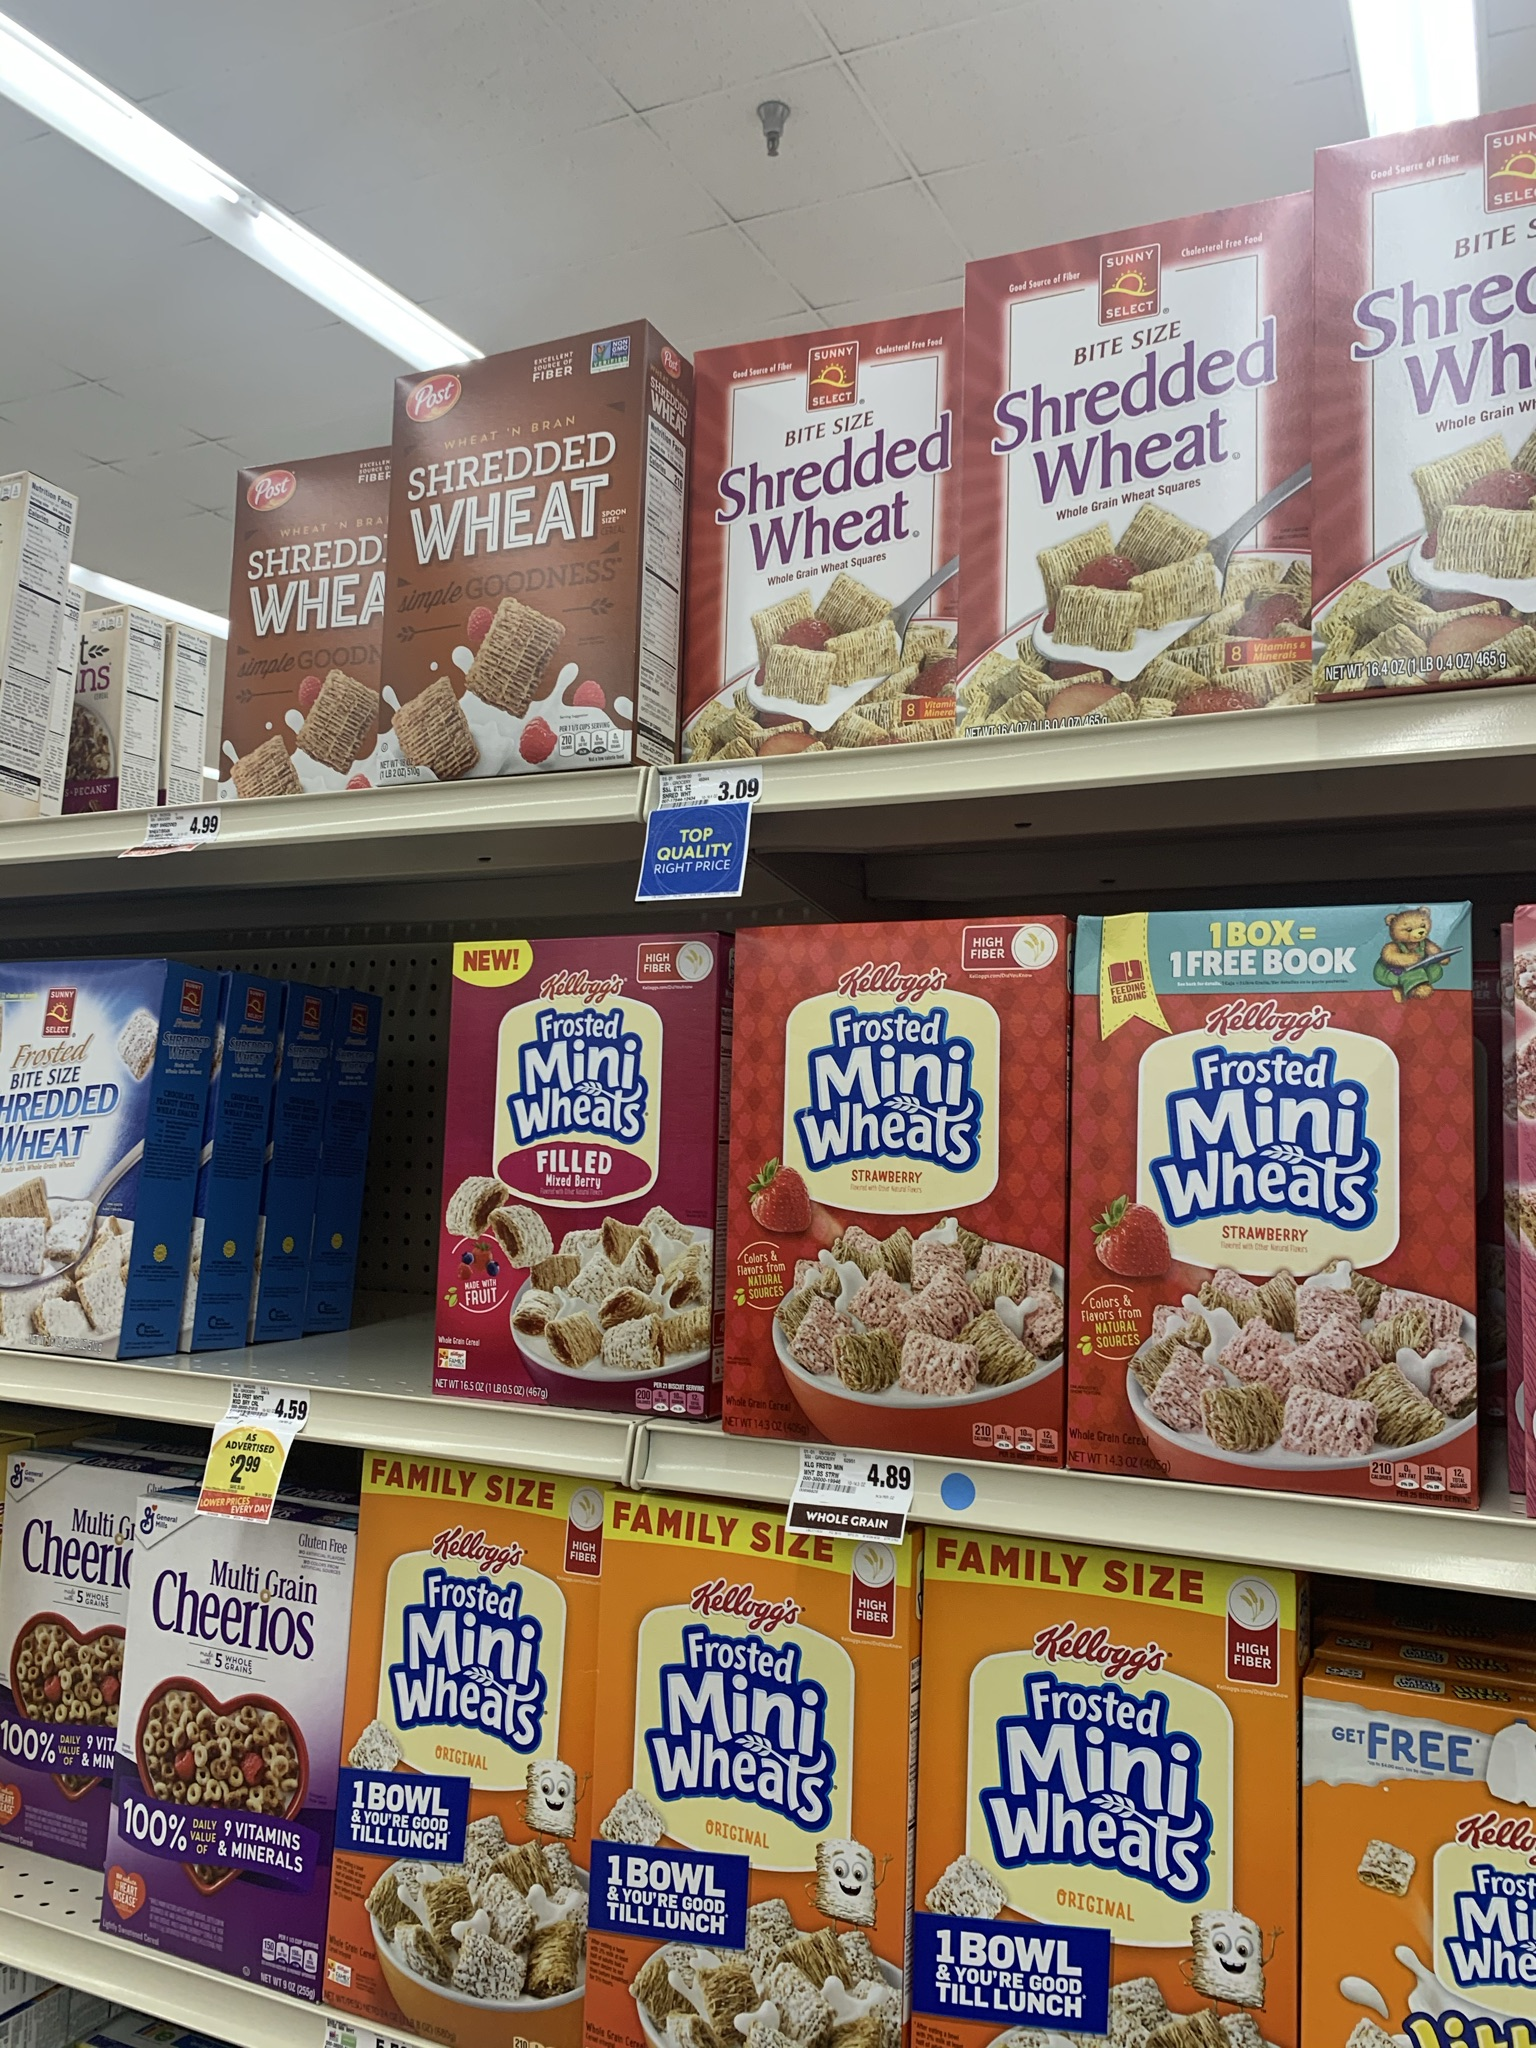Cereal cheerios: (110, 1511, 353, 2001), (15, 1459, 132, 1900)
Cereal mini wheats: (1087, 926, 1471, 1461), (752, 929, 1058, 1434), (603, 1511, 884, 2048), (947, 1546, 1239, 2048), (444, 930, 708, 1392), (373, 1459, 574, 2046)
Cereal shredded wheat: (966, 266, 1294, 705), (1320, 156, 1536, 656), (397, 379, 662, 755), (703, 360, 958, 697), (244, 456, 419, 764), (6, 1001, 124, 1361)
